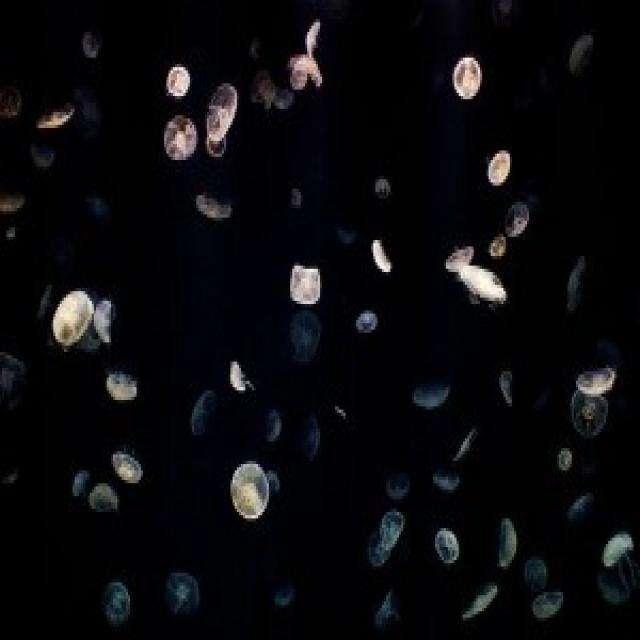Jellyfish: (226, 456, 277, 530), (52, 276, 92, 366), (208, 73, 241, 166), (438, 54, 491, 107), (164, 106, 202, 172), (163, 59, 204, 103)
